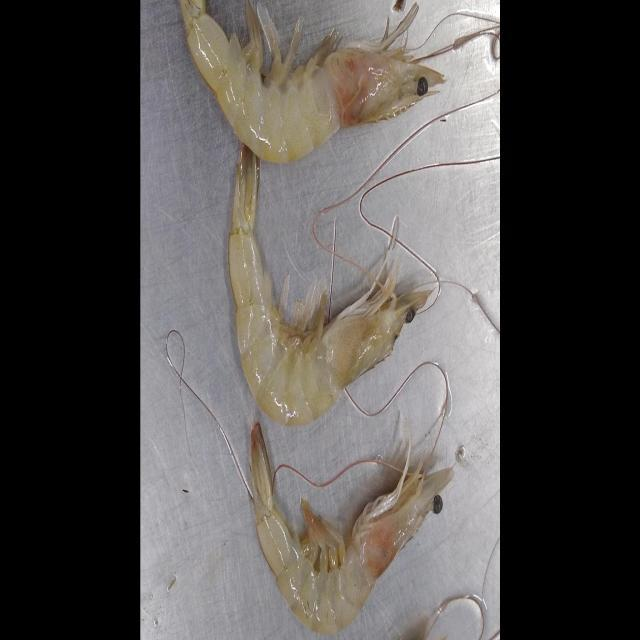shrimp: (229, 144, 429, 427), (179, 0, 444, 162), (250, 422, 452, 633)
